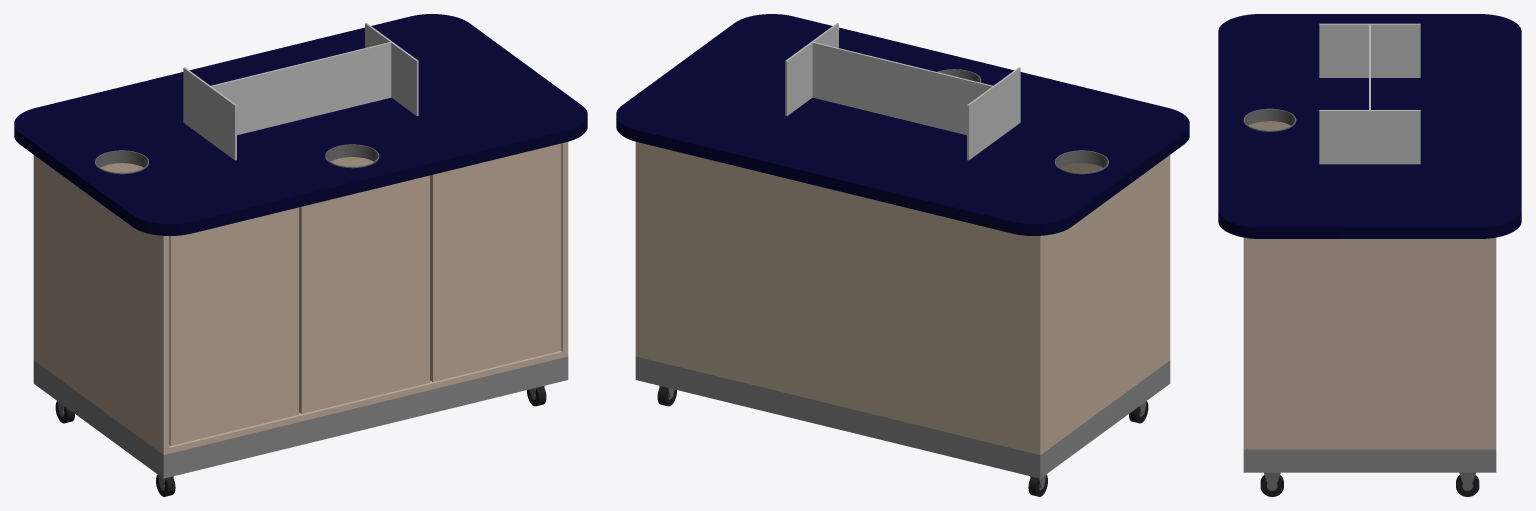
Rendered from Market+Store+Counter+Coffee+Bar_#1_May+2015.fbx.
3 views of the same model, side by side, from view 1: azimuth 30°, elevation 25°; view 2: azimuth 150°, elevation 25°; view 3: azimuth 270°, elevation 25° (orthographic). The views are drawn at different scales.
Parts seen in each view (by area): view 1: Group30, Group46, Group45, Group44, Group43, Group29, Group47; view 2: Group46, Group30, Group29, Group47; view 3: Group30, Group46, Group29, Group47, Group32.
Boxes of the visible parts, x1,y1,x2,y2 form: Group30: (14, 14, 587, 235); Group46: (33, 142, 568, 454); Group45: (430, 143, 561, 381); Group44: (299, 175, 429, 413); Group43: (169, 207, 298, 445); Group29: (183, 23, 418, 160); Group47: (33, 356, 568, 478); Group46: (635, 142, 1170, 454); Group30: (616, 14, 1189, 235); Group29: (785, 23, 1020, 160); Group47: (635, 356, 1170, 478); Group30: (1218, 14, 1521, 238); Group46: (1243, 121, 1496, 449); Group29: (1319, 23, 1420, 164); Group47: (1243, 449, 1496, 472); Group32: (1244, 110, 1294, 125).
Size of the model in its own units: 60 by 44.5 by 36.
